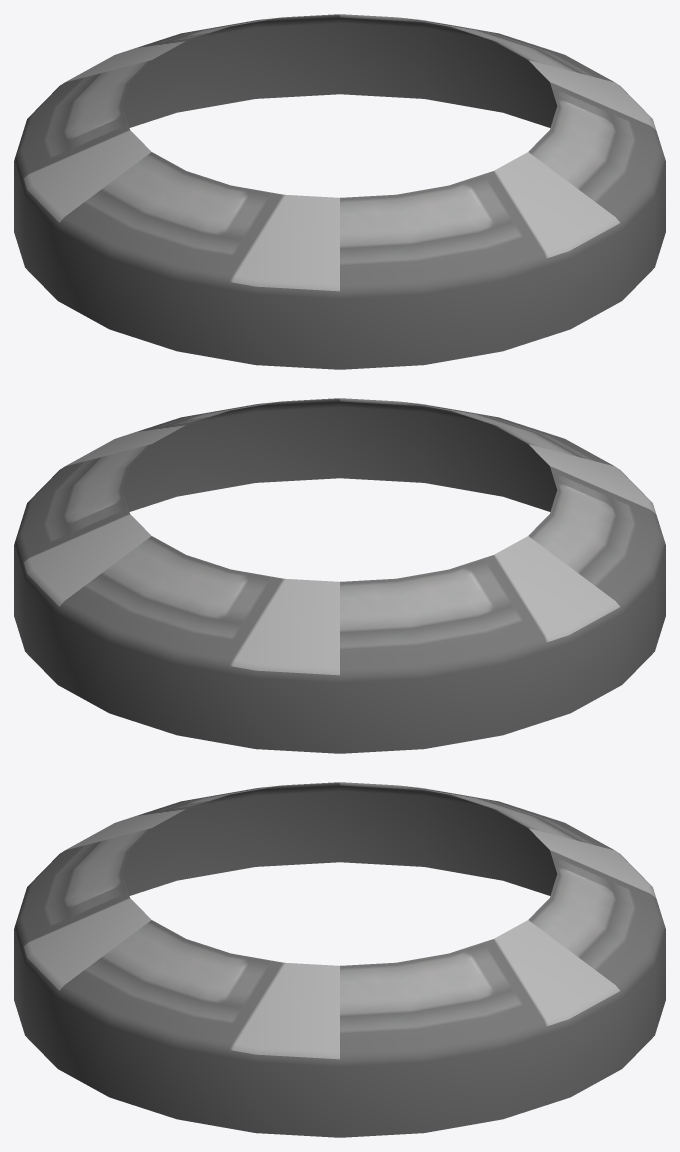
Rendered from eridani_adapter_s1p5_s1_1.obj.
The picture shows the model from 3 angles, top to bottom: view 1: azimuth 30°, elevation 25°; view 2: azimuth 150°, elevation 25°; view 3: azimuth 270°, elevation 25°; orthographic projection.
Visible parts, largest first — view 1: mesh1; view 2: mesh1; view 3: mesh1.
Boxes of the visible parts, box(x1,y1,x2,y2) form: mesh1: box(14, 14, 665, 369); mesh1: box(14, 398, 665, 753); mesh1: box(14, 782, 665, 1137).
Bounding box in the file's own units: 1.88 × 0.4 × 1.88.
Materials: 1 (1 with a texture image).
